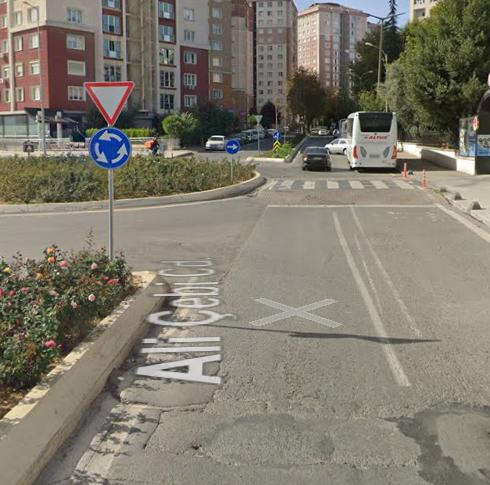crossroads: (89, 127, 130, 168)
turnright: (226, 139, 241, 155)
